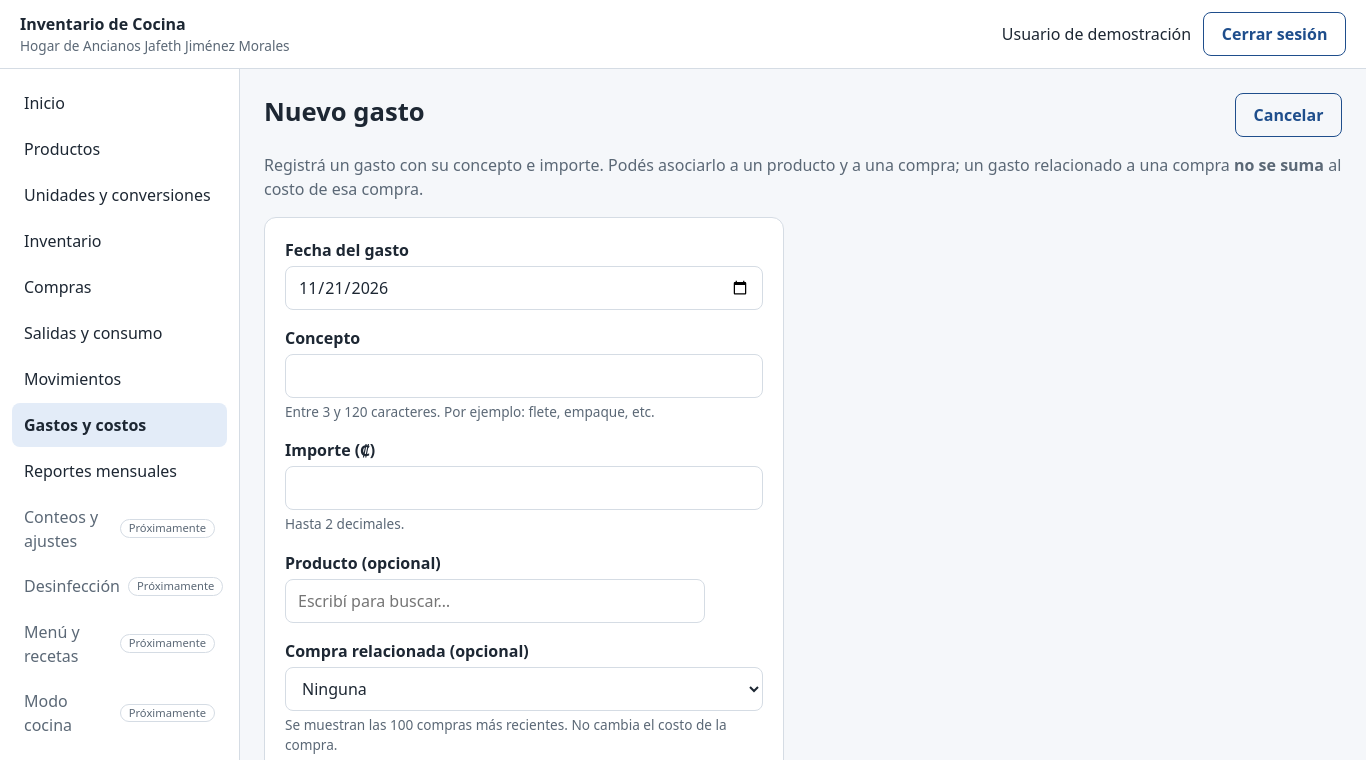
Scenario: formulario de gasto › registrar un gasto y verlo en la lista, con su fecha, concepto, importe exacto y nota
(page scrolled)
Expected: the heading "Nuevo gasto" is shown, [264,93,425,131]
Type "  Flete de verduras " into the field labelled "Concepto" at (524, 376), box [285,354,763,398]
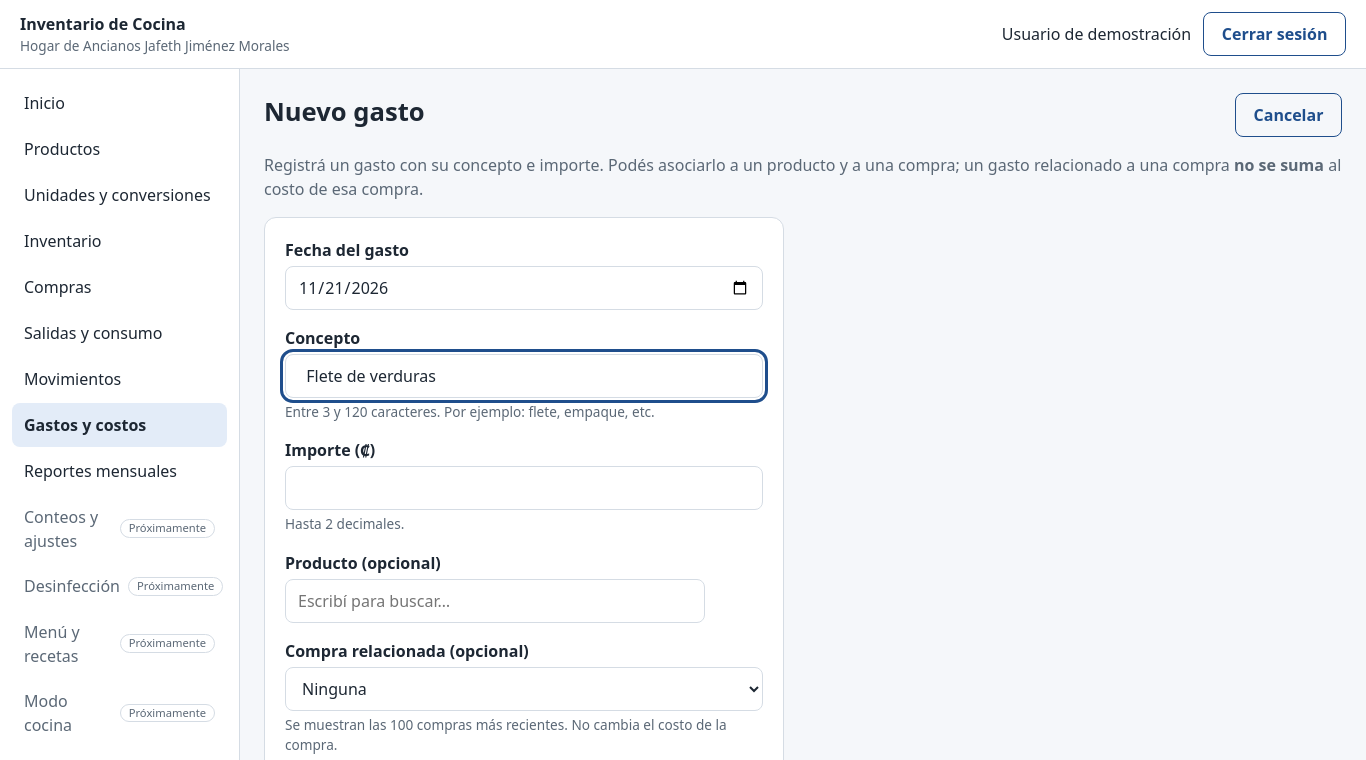
Type "1250,5" into the field labelled "Importe (₡)" at (524, 488), box [285,466,763,510]
(page scrolled)
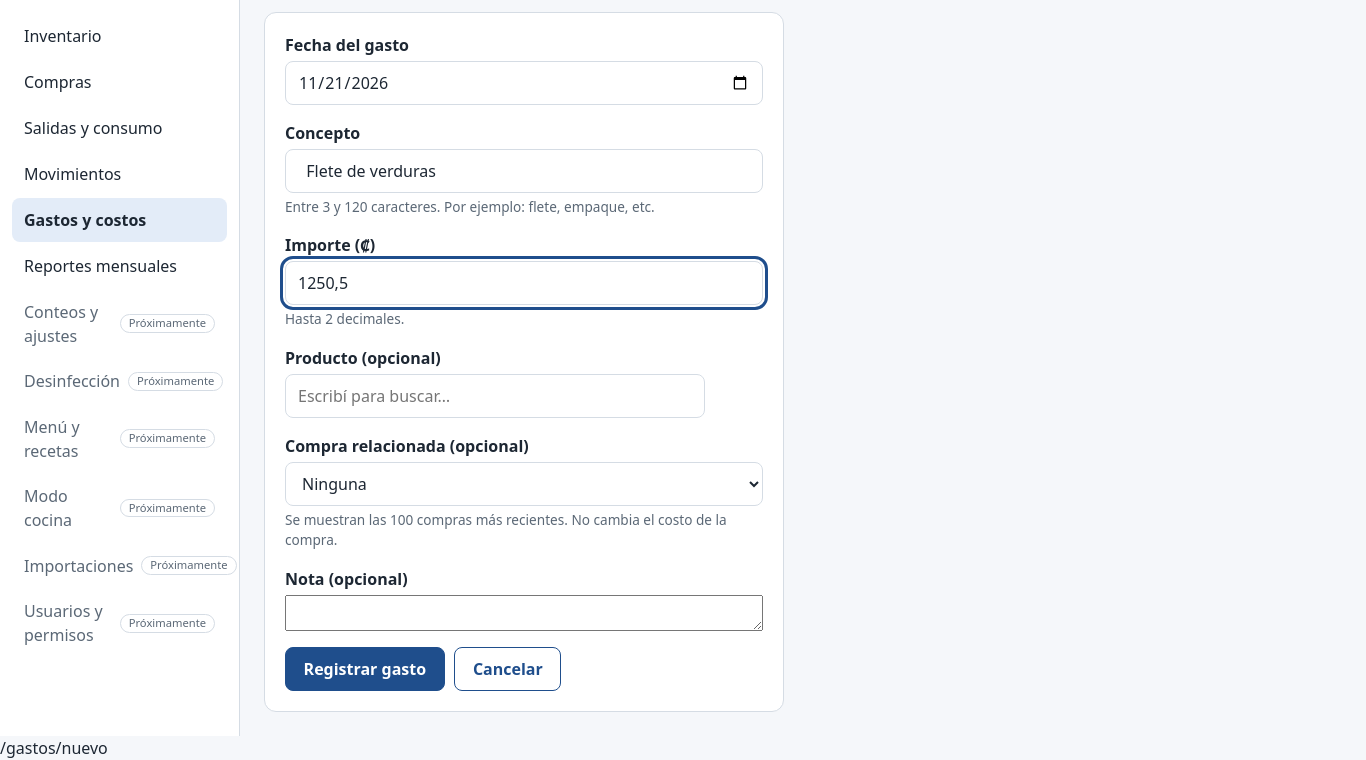
Type "Pagado en efectivo" into the text box labelled "Nota (opcional)" at (524, 613), box [285,595,763,631]
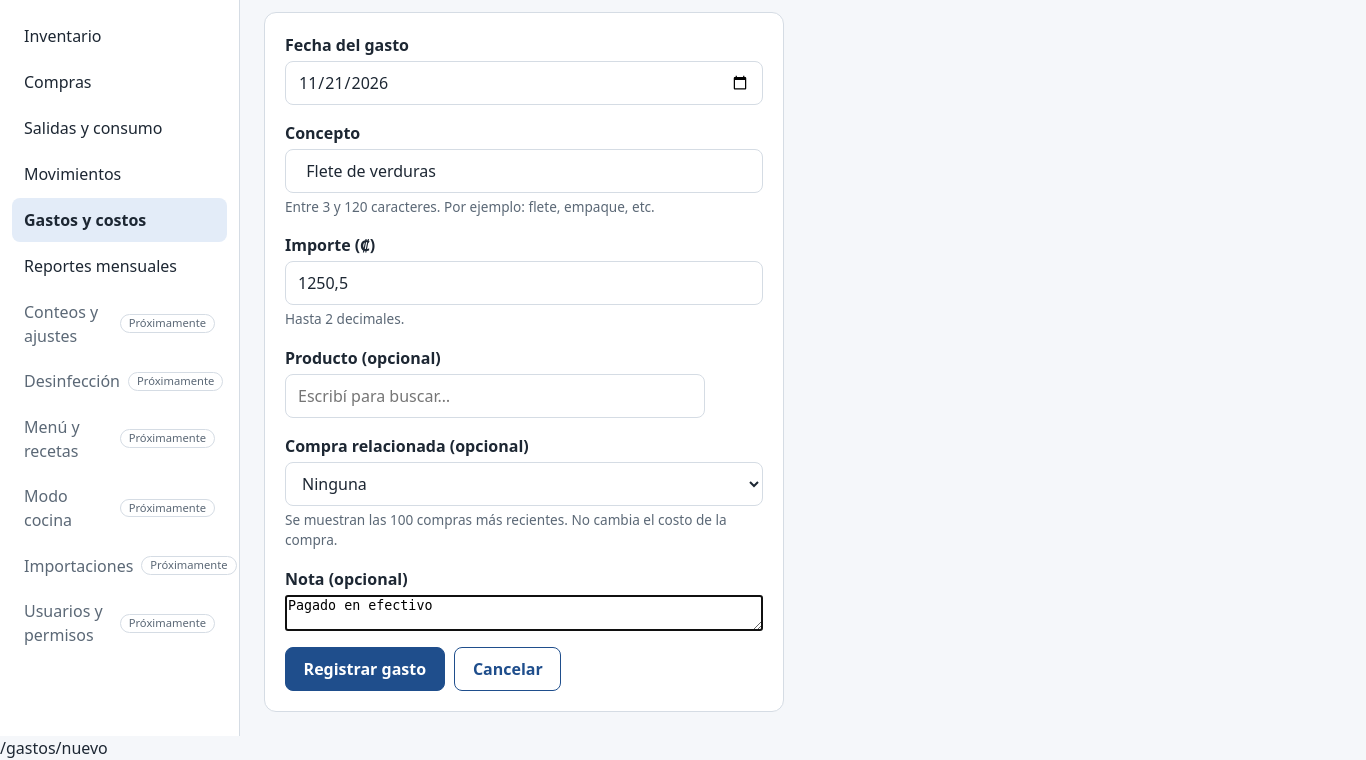
Click the button "Registrar gasto" at (365, 669), box [285,647,445,691]
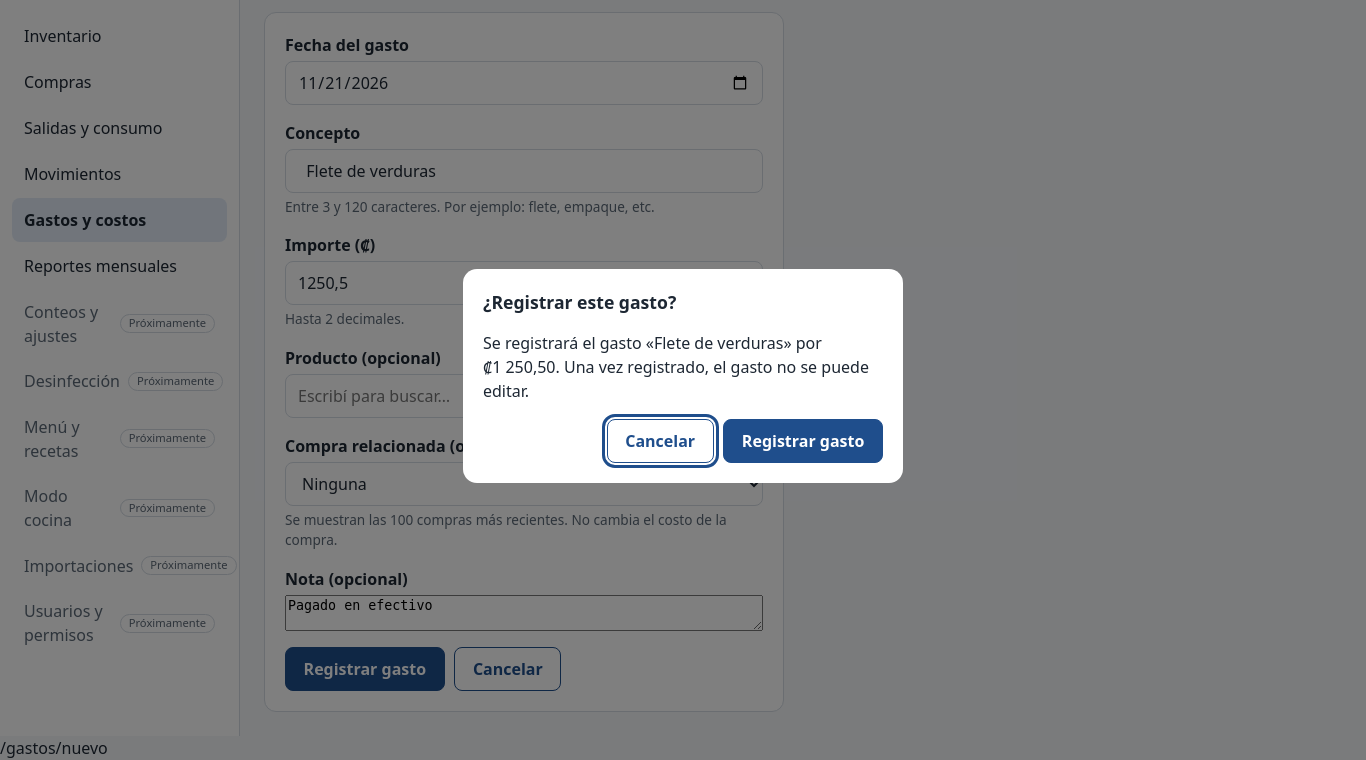
Expected: the dialog shows "¿Registrar este gasto?", [483,290,676,314]
Click the button "Registrar gasto" at (803, 441), box [723,419,883,463]
(page scrolled)
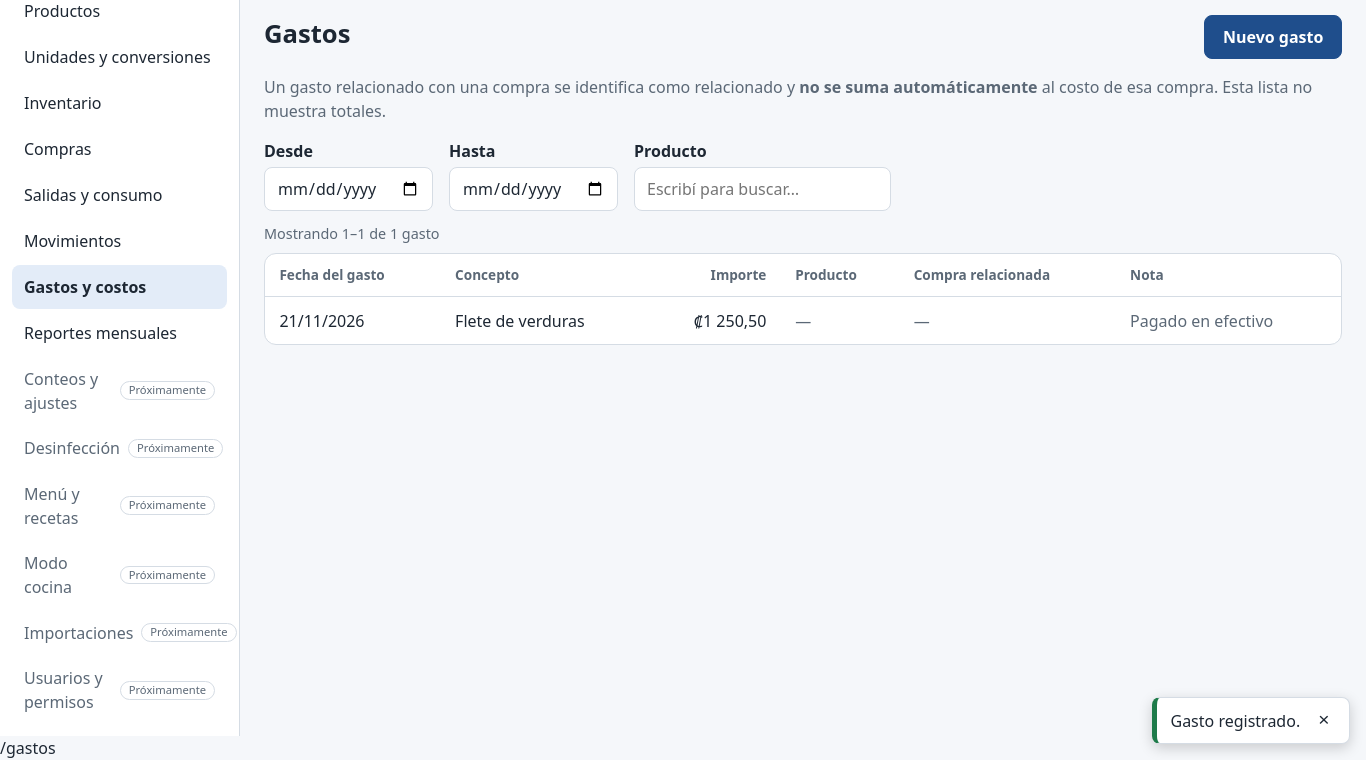
Expected: the text "Gasto registrado." is shown, [1170,709,1300,733]
Expected: the text with test id "ubicacion" reads "/gastos", [0,737,56,759]
